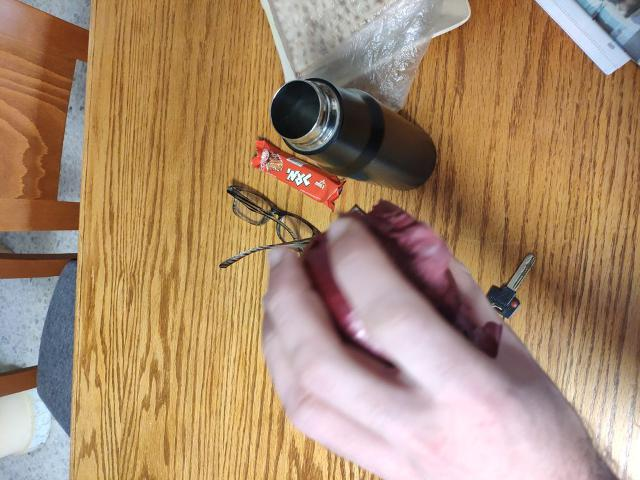onion: (286, 226, 472, 363)
